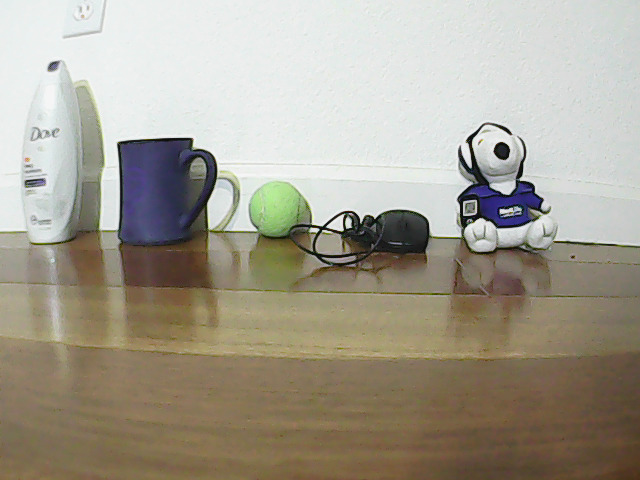ball: (240, 179, 306, 239)
mouse: (366, 199, 439, 255)
mug: (113, 131, 226, 249)
snoopy: (453, 122, 561, 255)
soap: (32, 51, 79, 240)
